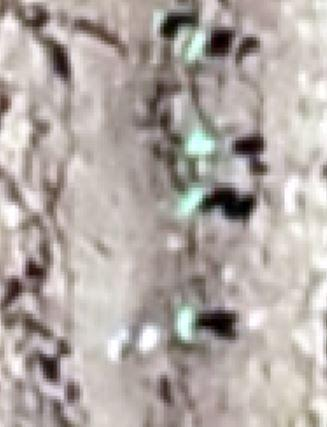cotton: (179, 27, 204, 59), (188, 132, 216, 159), (178, 306, 195, 336), (180, 190, 203, 211), (153, 9, 163, 24)
